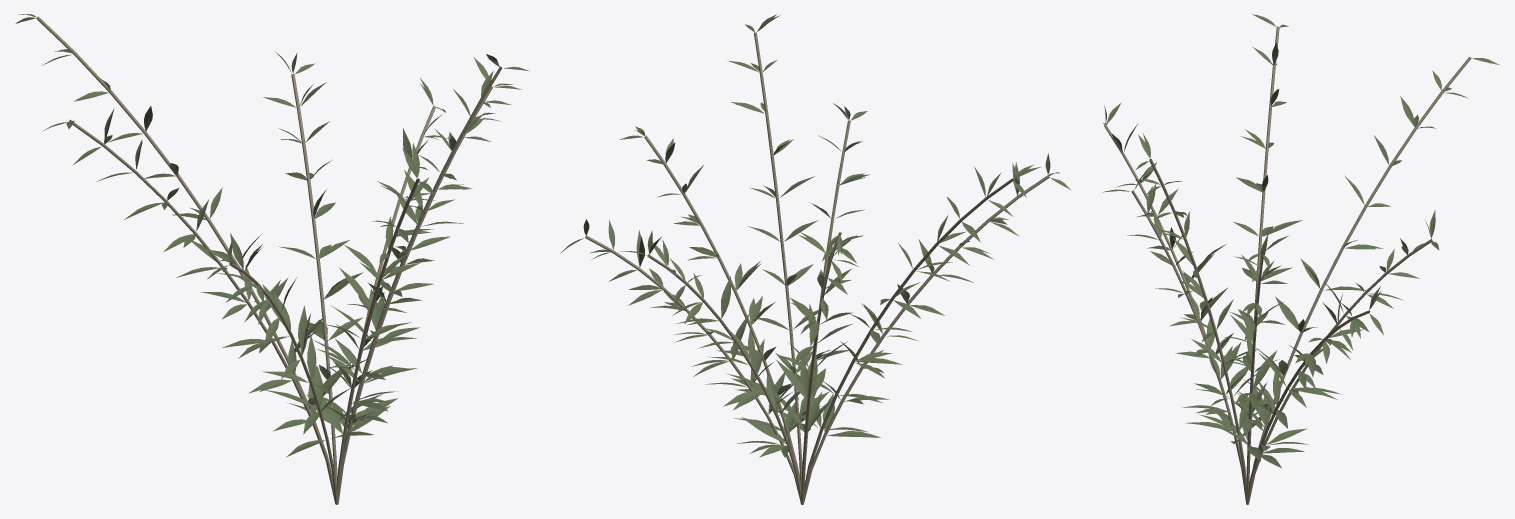
Rendered from olive-2.glb.
3 renders of one model, left to right at view 1: azimuth 30°, elevation 25°; view 2: azimuth 150°, elevation 25°; view 3: azimuth 270°, elevation 25°, orthographic. The views are drawn at different scales.
Visible parts, largest first — view 1: olive-leaves, olive-stems; view 2: olive-leaves, olive-stems; view 3: olive-leaves, olive-stems.
Part boxes in pixels (x1=…): olive-leaves: x1=15, y1=14, x2=529, y2=457; olive-stems: x1=36, y1=16, x2=502, y2=504; olive-leaves: x1=560, y1=14, x2=1070, y2=457; olive-stems: x1=585, y1=32, x2=1049, y2=504; olive-leaves: x1=1102, y1=14, x2=1499, y2=468; olive-stems: x1=1104, y1=26, x2=1471, y2=504.
Bounding box in the file's own units: 0.6154 × 0.6042 × 0.5355.
